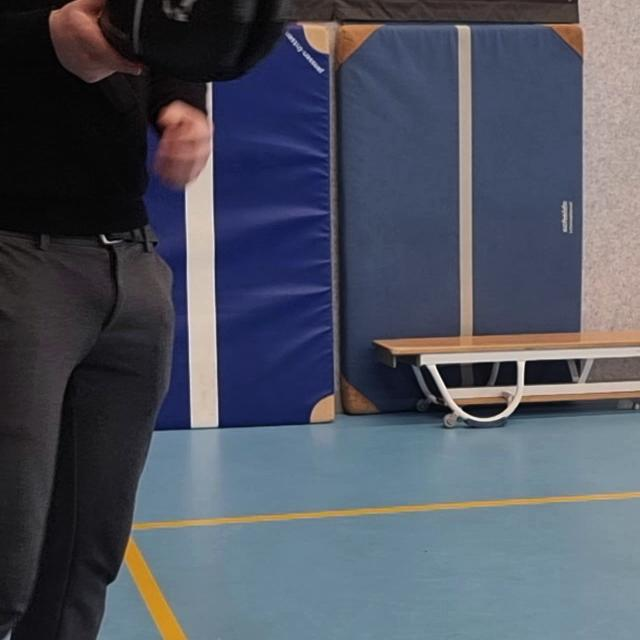paddle: (102, 0, 296, 80)
